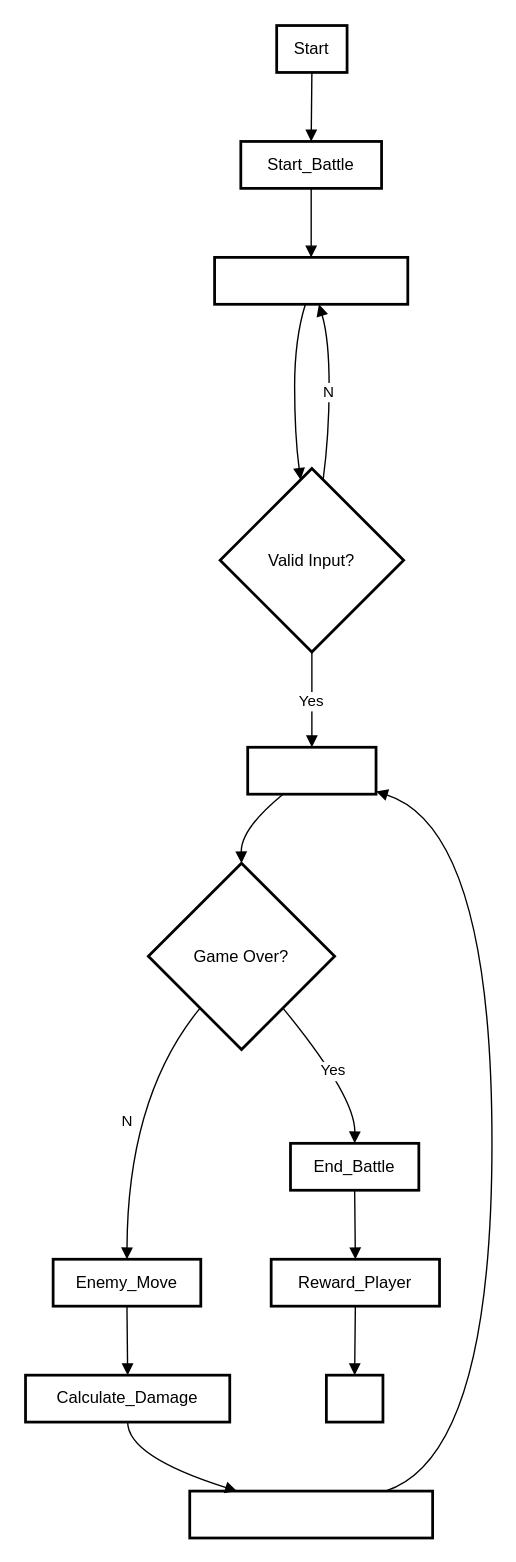
Some shapes in this 516 by 1562 pixel diagram are drawn without their labels. The box of each missing label's shape, as (x1, y1, x2, y2) in pixels:
End: (324, 1373, 384, 1423)
Get_Player_Input: (213, 255, 408, 305)
Next_Move: (246, 745, 377, 795)
Update_Player_Health: (188, 1489, 433, 1539)
